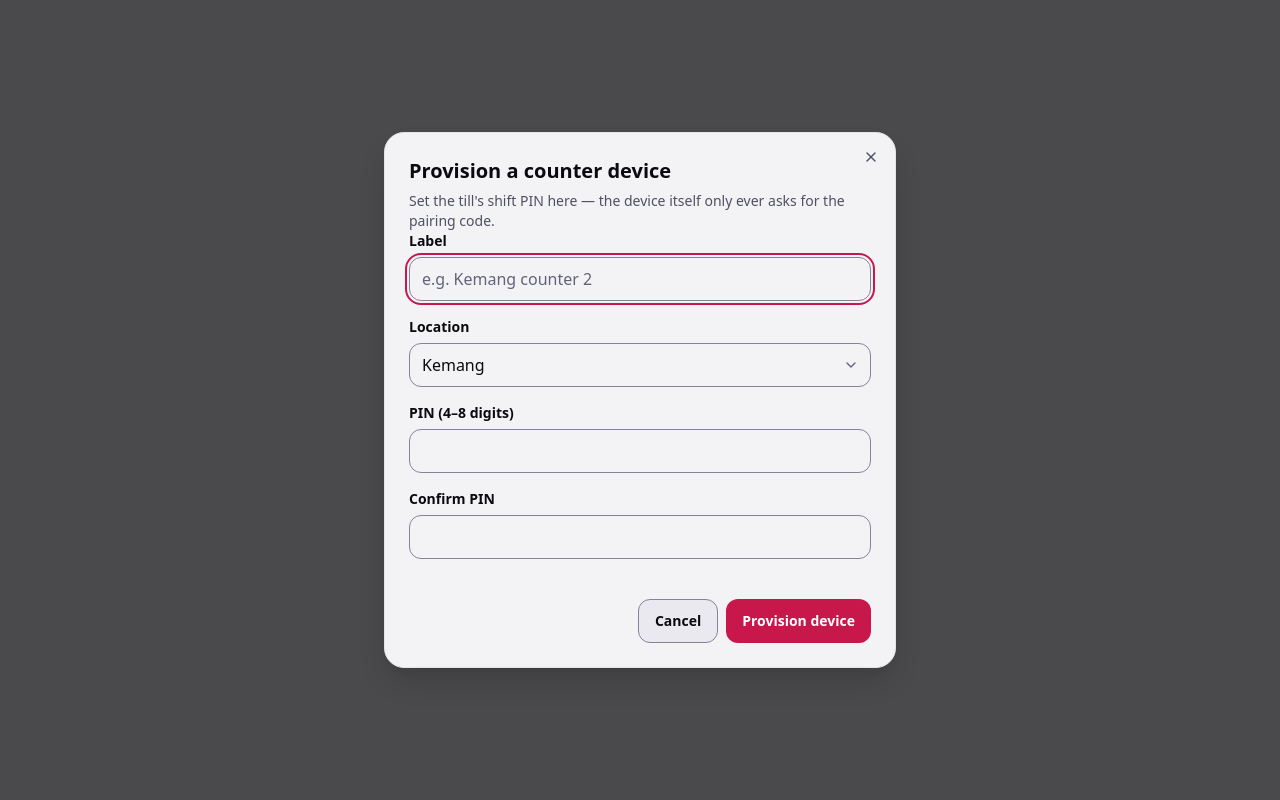
Test: TeamProvisionDeviceDialog › writes the pairing code's expiry in the display language, not the browser's
Type "Counter 1" into the field at (640, 279), box [409,257,871,301]
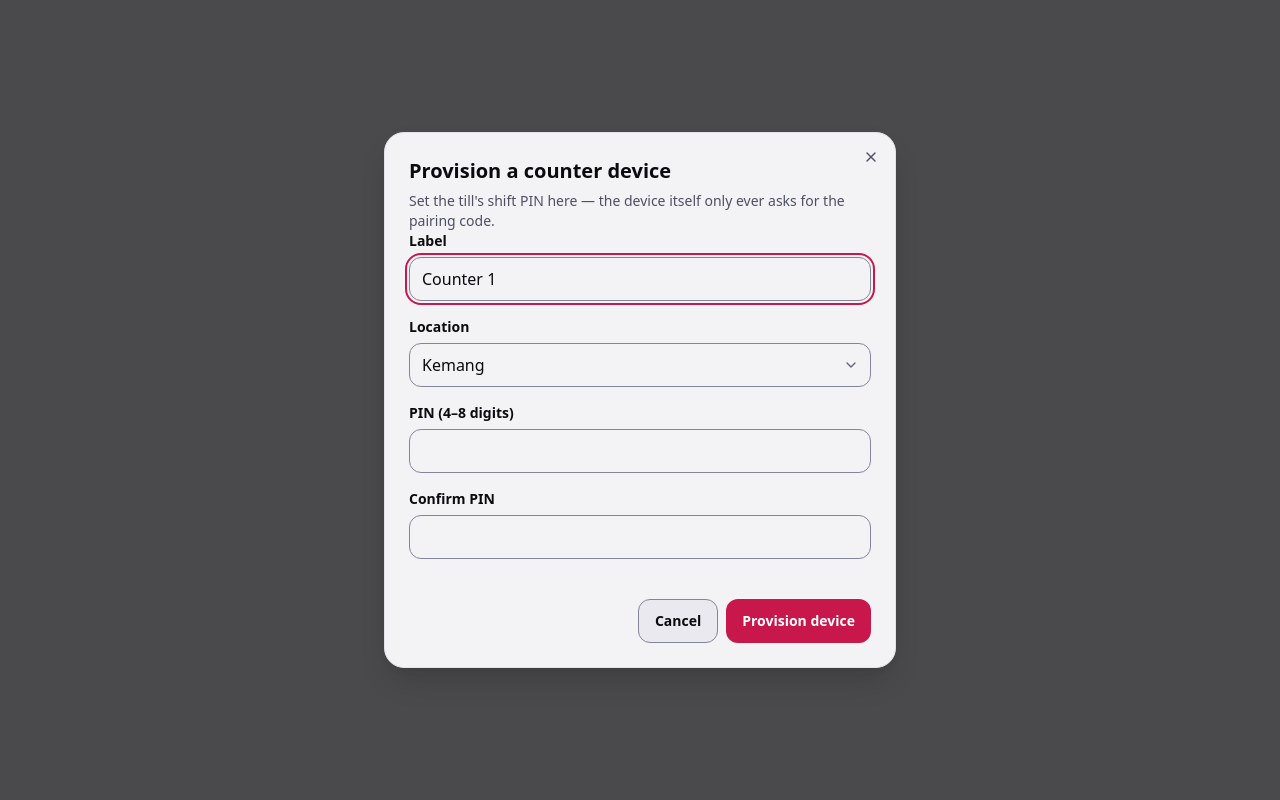
Type "1234" into the password field labelled "PIN (4–8 digits)" at (640, 451), box [409,429,871,473]
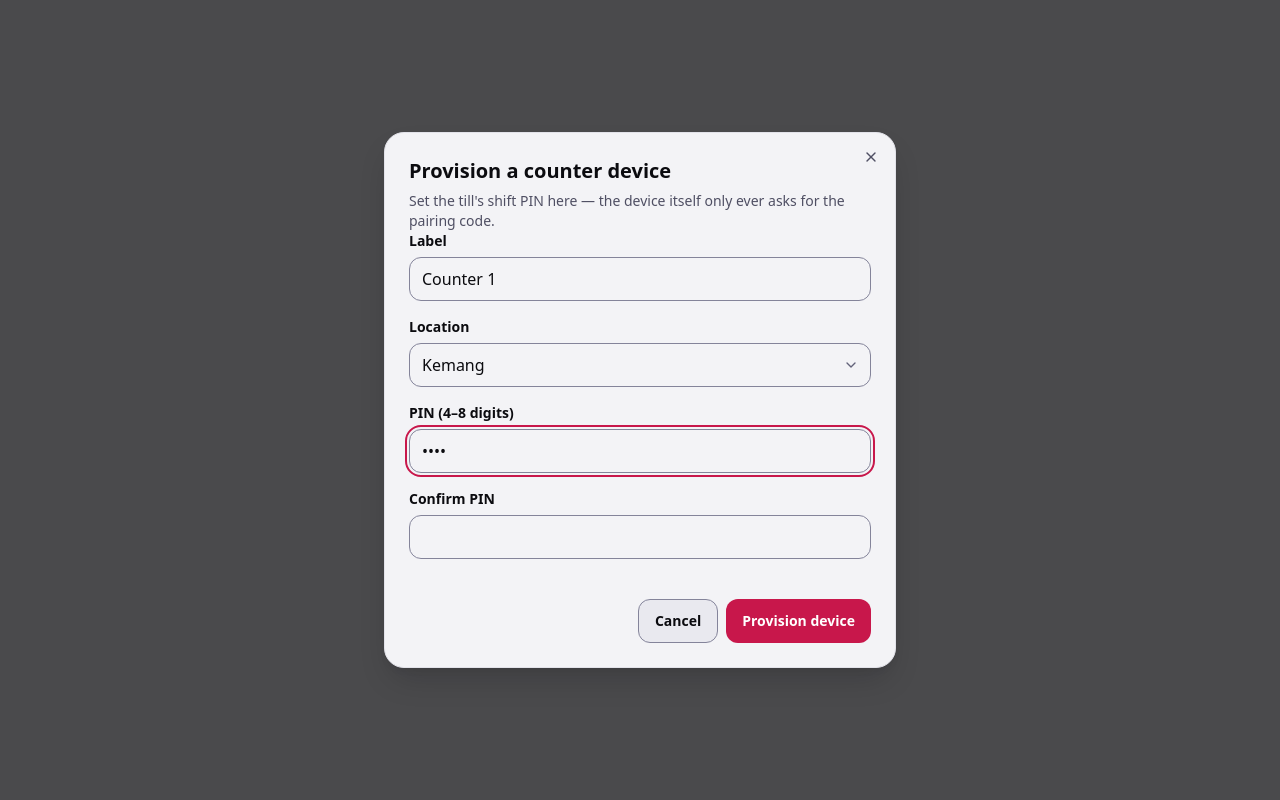
Type "1234" into the password field labelled "Confirm PIN" at (640, 537), box [409,515,871,559]
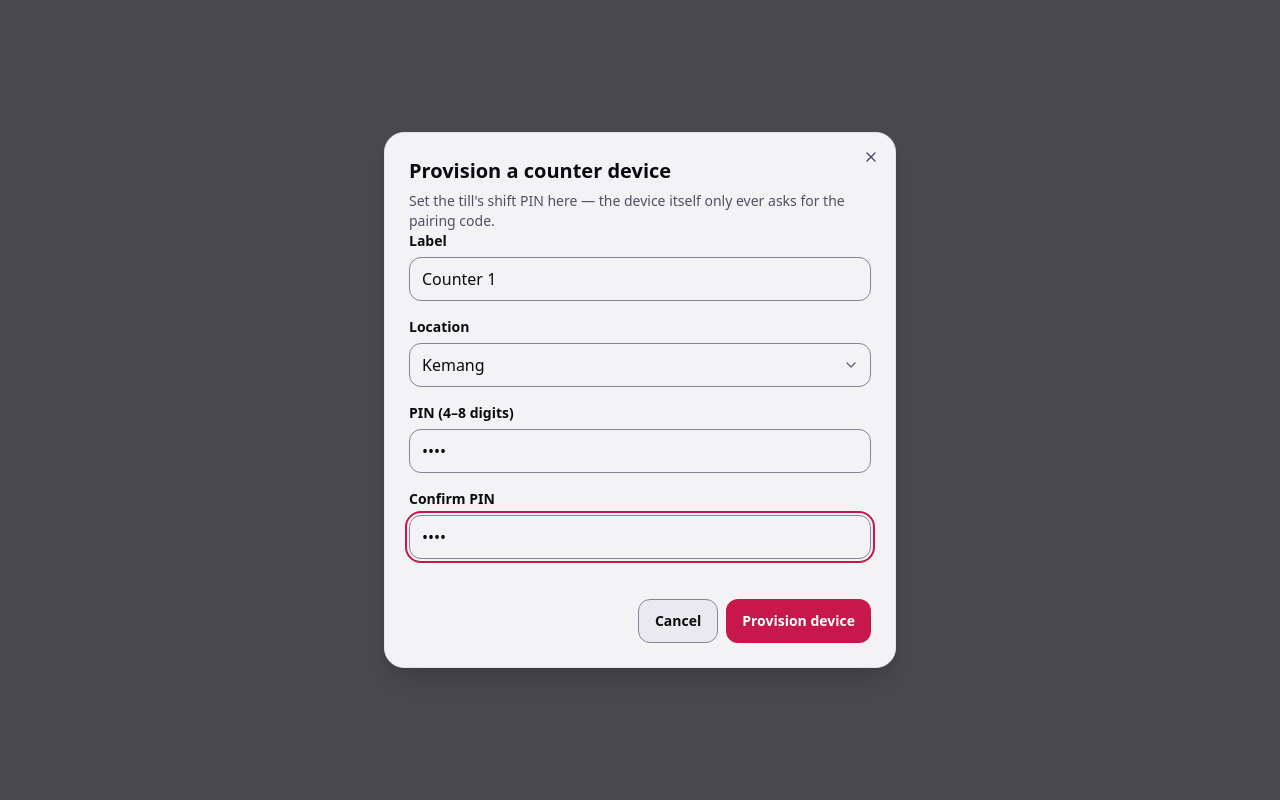
Click the button "Provision device" at (799, 621), box [726,599,871,643]
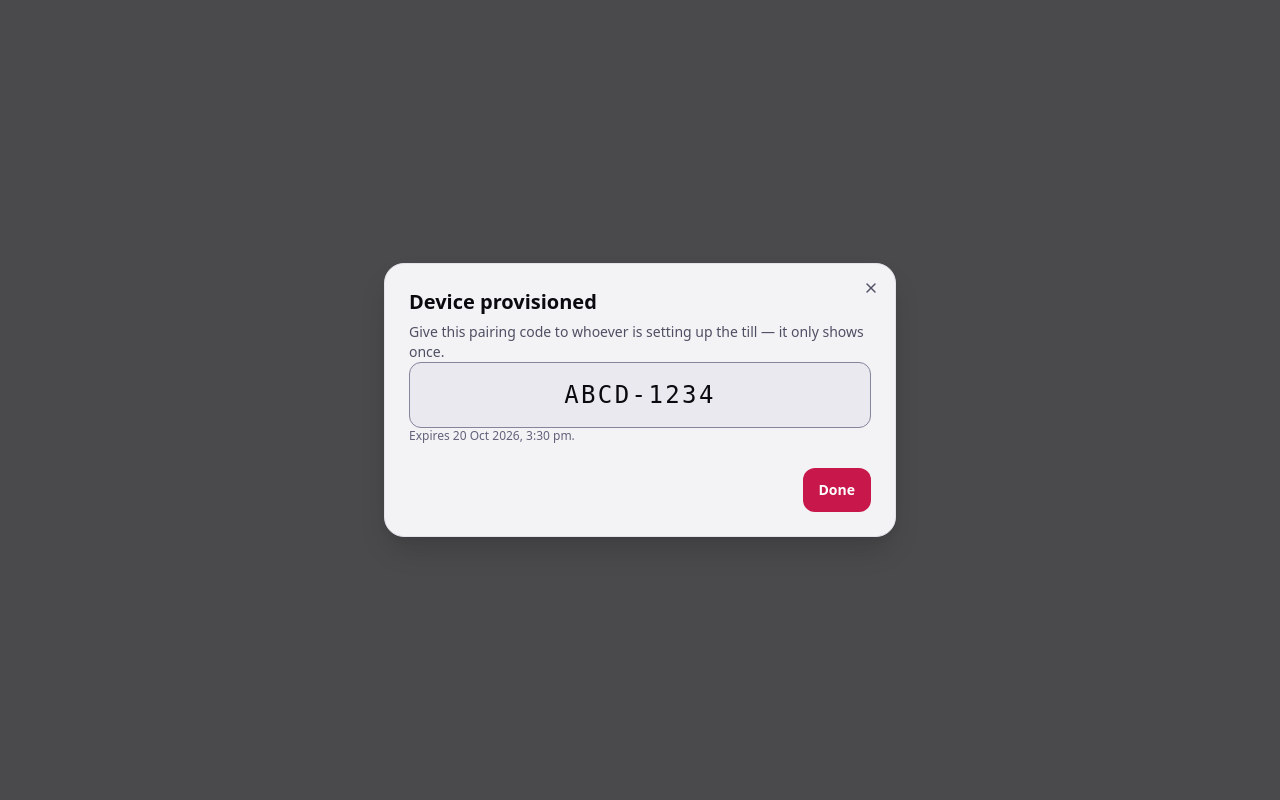
Now the text "Expires 20 Oct 2026, 3:30 pm." is shown, box [409,427,575,444]
